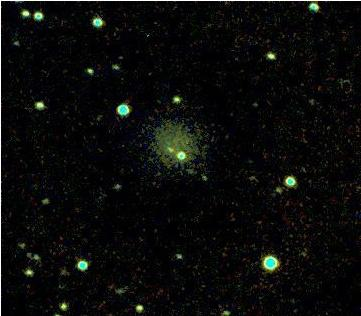star: (105, 45, 135, 75)
